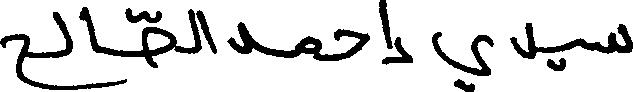X: (432, 27, 491, 91), (142, 6, 175, 72), (52, 7, 72, 91), (0, 29, 28, 88), (333, 24, 365, 65), (600, 19, 632, 58), (83, 2, 96, 91), (510, 18, 535, 63), (196, 5, 215, 58), (378, 0, 391, 69), (230, 17, 251, 58), (302, 31, 319, 65), (188, 4, 194, 58), (576, 33, 586, 53)
